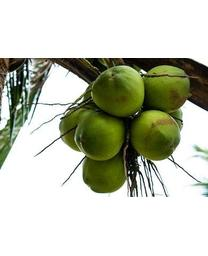coconut: (91, 62, 146, 119), (131, 108, 179, 160), (74, 110, 122, 156), (81, 150, 129, 195), (147, 64, 190, 111), (60, 105, 98, 156)
